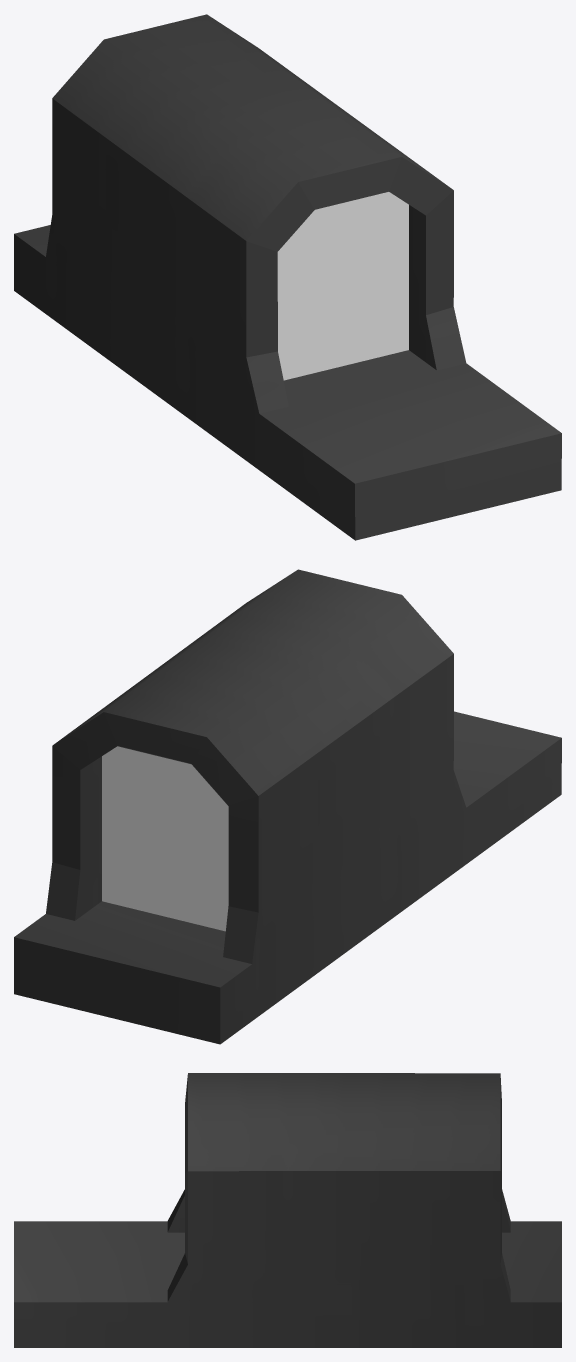
File: Holo_mesh.fbx
The picture shows the model from 3 angles, top to bottom: view 1: azimuth 30°, elevation 25°; view 2: azimuth 150°, elevation 25°; view 3: azimuth 270°, elevation 25°; orthographic projection. The views are drawn at different scales.
Visible parts, largest first — view 1: Holo_mesh; view 2: Holo_mesh; view 3: Holo_mesh.
Part boxes in pixels (bbox=[...]): Holo_mesh: bbox=[14, 14, 561, 540]; Holo_mesh: bbox=[14, 569, 561, 1044]; Holo_mesh: bbox=[14, 1073, 561, 1347].
Size of the model in its own units: 3.01 by 3.69 by 8.55.
